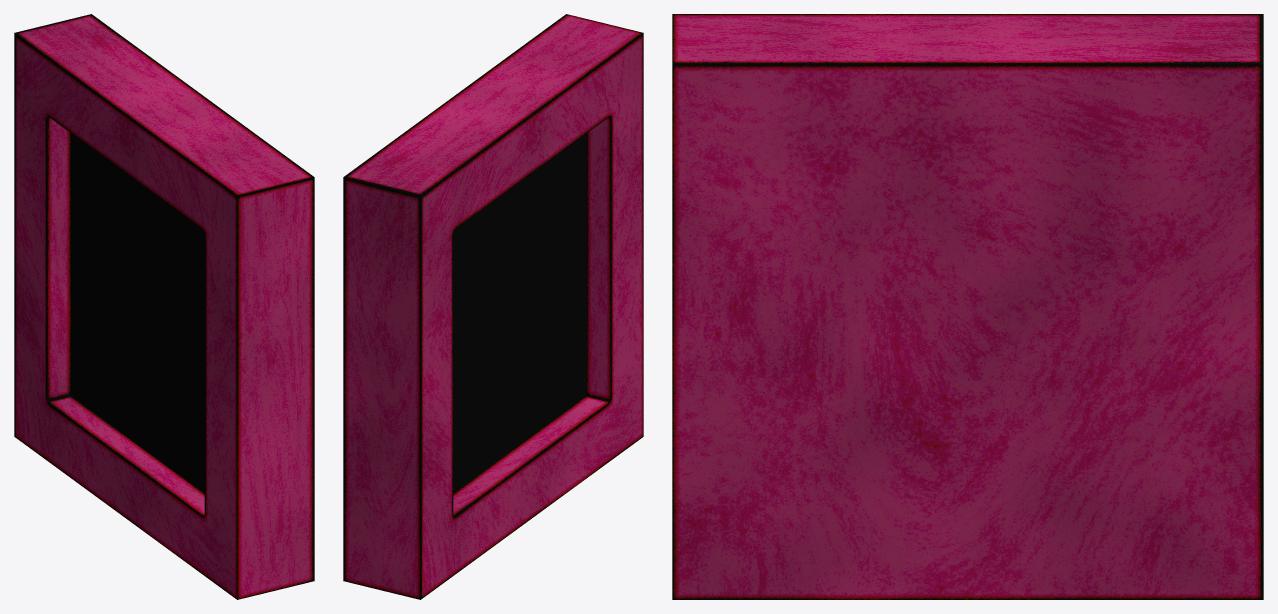
The model's file is shooters_lookout.fbx.
3 views of the same model, side by side, from view 1: azimuth 30°, elevation 25°; view 2: azimuth 150°, elevation 25°; view 3: azimuth 270°, elevation 25° (orthographic). The views are drawn at different scales.
Visible parts, largest first — view 1: shooters_lookout; view 2: shooters_lookout; view 3: shooters_lookout.
Part boxes in pixels (x1,y1,x2,y2): shooters_lookout: (14, 14, 314, 599); shooters_lookout: (343, 14, 643, 599); shooters_lookout: (672, 14, 1263, 599).
Size of the model in its own units: 40 by 200 by 200.
